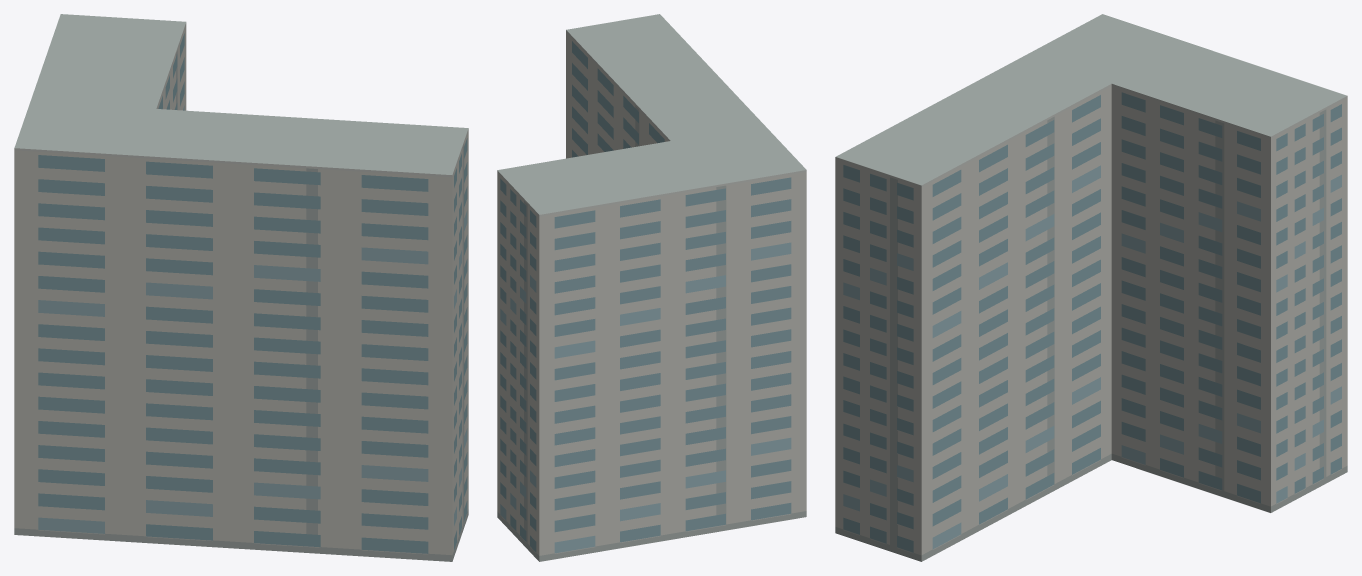
File: residential-799001f7-f758-41ec-a7d4-7ce2e8347e33.glb
3 views of the same model, side by side, from view 1: azimuth 30°, elevation 25°; view 2: azimuth 150°, elevation 25°; view 3: azimuth 270°, elevation 25° (orthographic). The views are drawn at different scales.
Parts seen in each view (by area): view 1: residential-799001f7-f758-41ec-a7d4-7ce2e8347e33.tmp; view 2: residential-799001f7-f758-41ec-a7d4-7ce2e8347e33.tmp; view 3: residential-799001f7-f758-41ec-a7d4-7ce2e8347e33.tmp.
Boxes of the visible parts, x1,y1,x2,y2 form: residential-799001f7-f758-41ec-a7d4-7ce2e8347e33.tmp: [14, 14, 468, 561]; residential-799001f7-f758-41ec-a7d4-7ce2e8347e33.tmp: [497, 14, 806, 561]; residential-799001f7-f758-41ec-a7d4-7ce2e8347e33.tmp: [835, 14, 1347, 561].
Bounding box in the file's own units: 42.04 × 43 × 53.02.
